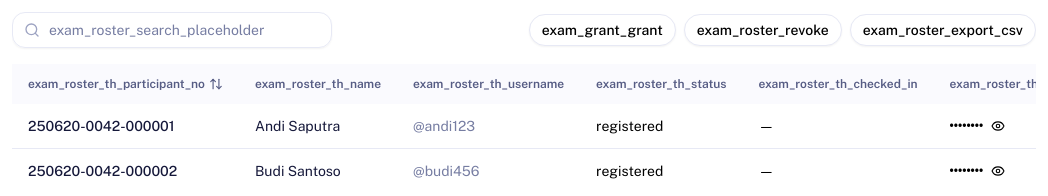
Scenario: ExamRegistrationsTab — roster search and status counts › restores the full roster after the student-name search is cleared
The image size is (1048, 196).
Expected: the text "Andi Saputra" is shown, [255,118,340,134]
Expected: the text "Budi Santoso" is shown, [255,163,341,179]
Type "andi" into the field with test id "roster-search" at (172, 30), box [12,12,332,48]
Wait 350 ms
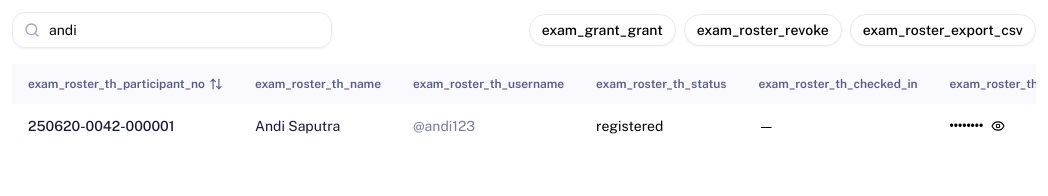
Expected: the text "Andi Saputra" is shown, [255,118,340,134]
Expected: the text "Budi Santoso" is gone
Clear the field with test id "roster-search" at (172, 30), box [12,12,332,48]
Wait 350 ms
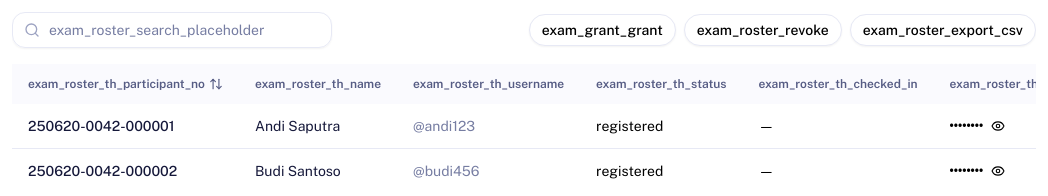
Expected: the text "Andi Saputra" is shown, [255,118,340,134]
Expected: the text "Budi Santoso" is shown, [255,163,341,179]
